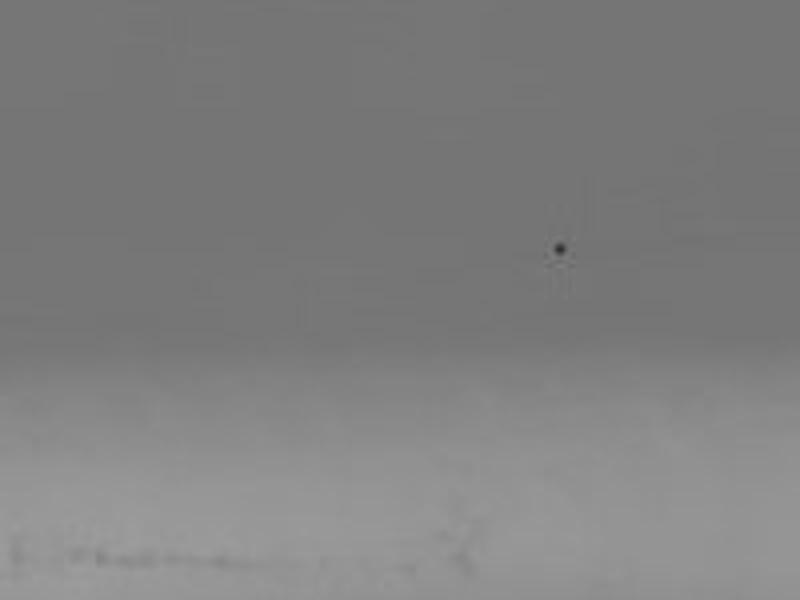defect: (550, 237, 571, 258), (95, 547, 109, 568)
